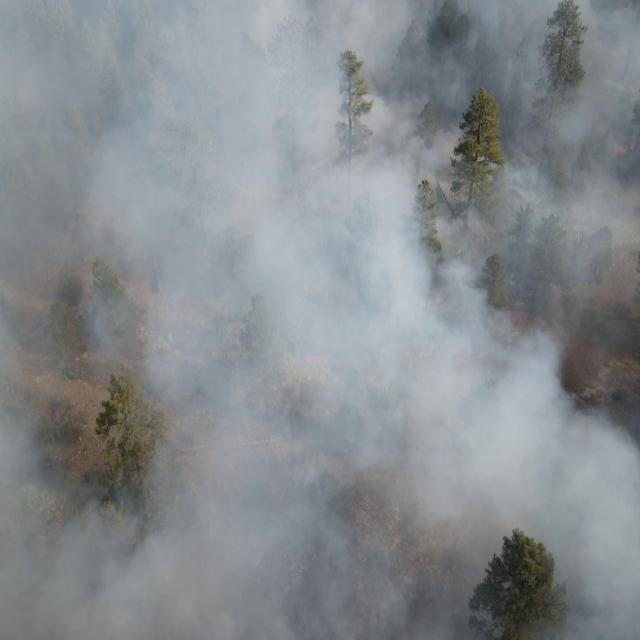fire: (608, 138, 638, 158)
smoke: (0, 0, 456, 640), (456, 154, 640, 636), (500, 0, 640, 154), (456, 0, 499, 92), (456, 94, 468, 150)
